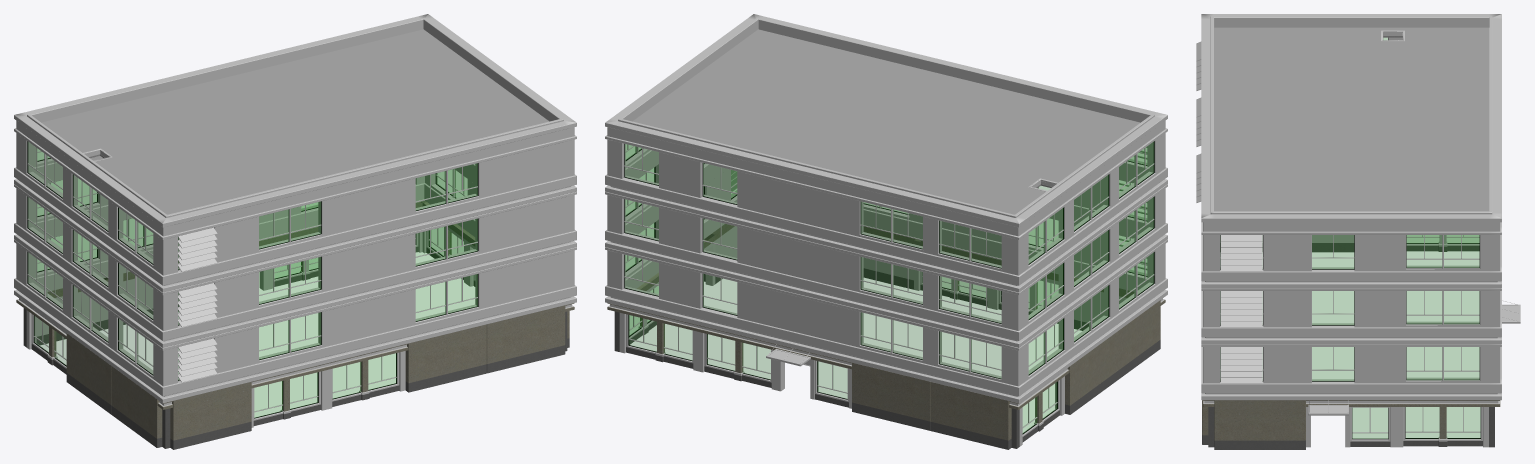
File: SM_Building21.fbx
The picture shows the model from 3 angles, left to right: view 1: azimuth 30°, elevation 25°; view 2: azimuth 150°, elevation 25°; view 3: azimuth 270°, elevation 25°; orthographic projection.
Parts seen in each view (by area): view 1: SM_Building21; view 2: SM_Building21; view 3: SM_Building21.
Boxes of the visible parts, x1,y1,x2,y2 form: SM_Building21: (14, 14, 576, 449); SM_Building21: (605, 14, 1167, 449); SM_Building21: (1196, 14, 1520, 449).
Size of the model in its own units: 3294 by 1691 by 2126.
